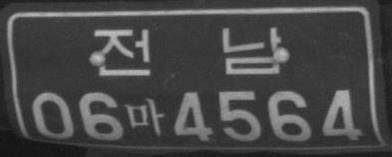0: (31, 89, 76, 140)
4: (321, 88, 364, 141), (173, 91, 214, 142)
5: (218, 89, 261, 141)
6: (266, 89, 313, 142), (78, 91, 125, 141)
마: (126, 97, 164, 136)
전남_D: (92, 27, 283, 76)
